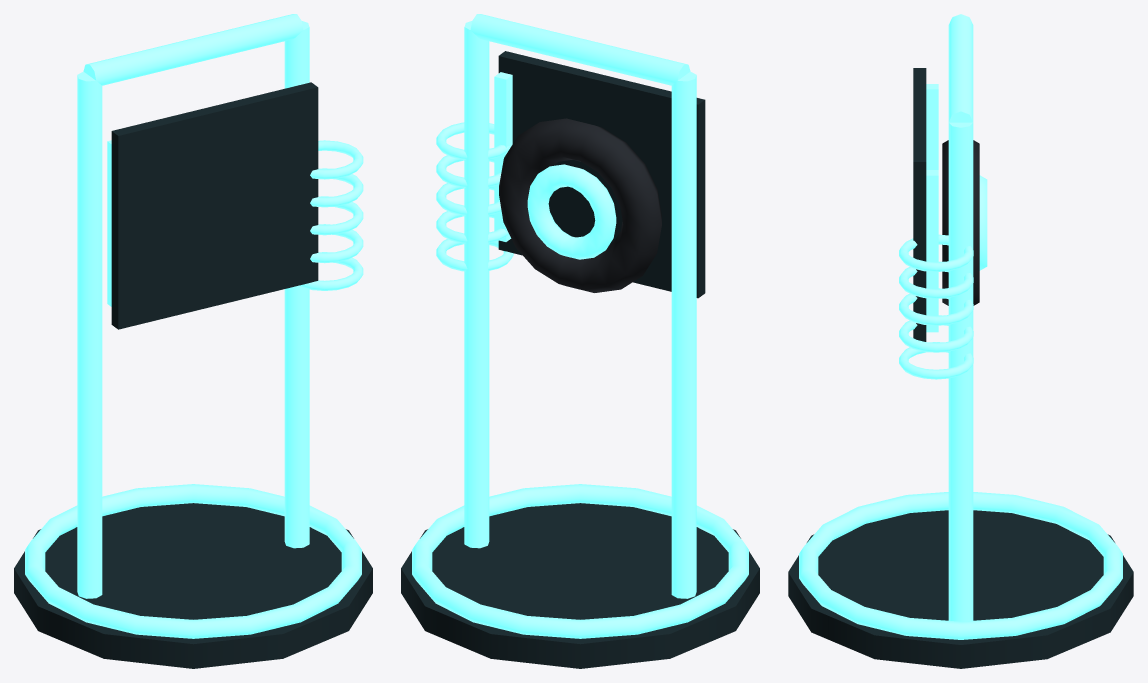
The model's file is pickup-wheels.glb.
The picture shows the model from 3 angles, left to right: view 1: azimuth 30°, elevation 25°; view 2: azimuth 150°, elevation 25°; view 3: azimuth 270°, elevation 25°; orthographic projection. The views are drawn at different scales.
Visible parts, largest first — view 1: pickup-wheels; view 2: pickup-wheels; view 3: pickup-wheels.
Part boxes in pixels (left/top/right/bottom): pickup-wheels: left=14, top=14, right=372, bottom=668; pickup-wheels: left=401, top=14, right=759, bottom=668; pickup-wheels: left=788, top=14, right=1133, bottom=668.
Bounding box in the file's own units: 2.1 × 3.58 × 2.1.
